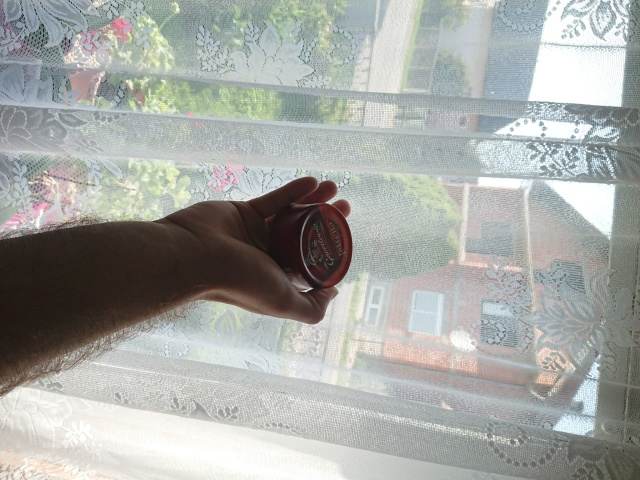Gavrilovic Pork Liver Pate 100g: (266, 200, 355, 293)
